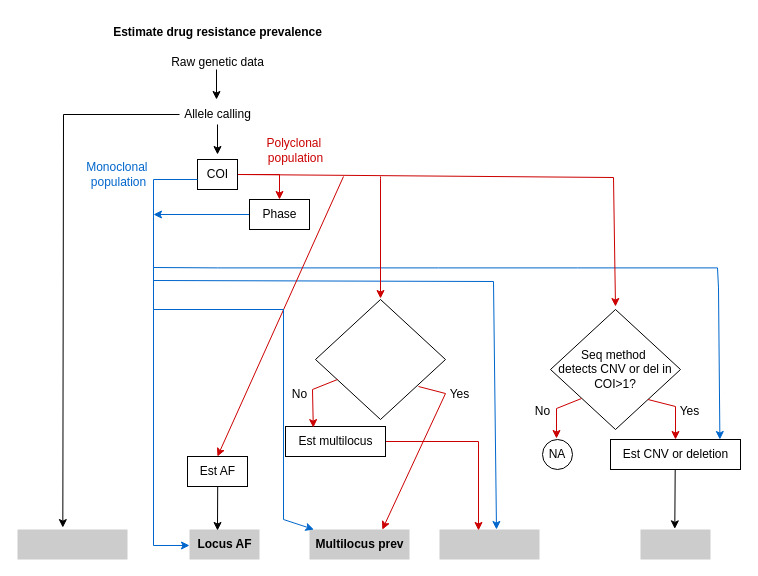
This 758x576 diagram has some shape labels left out. The centre of each missing label's shape, as x and y in pixels:
CNV/del: the point at 675,544
Locus allele prev: the point at 72,544
Multilocus AF: the point at 489,544
Unambigious multi-locus genotype?: the point at 380,359
